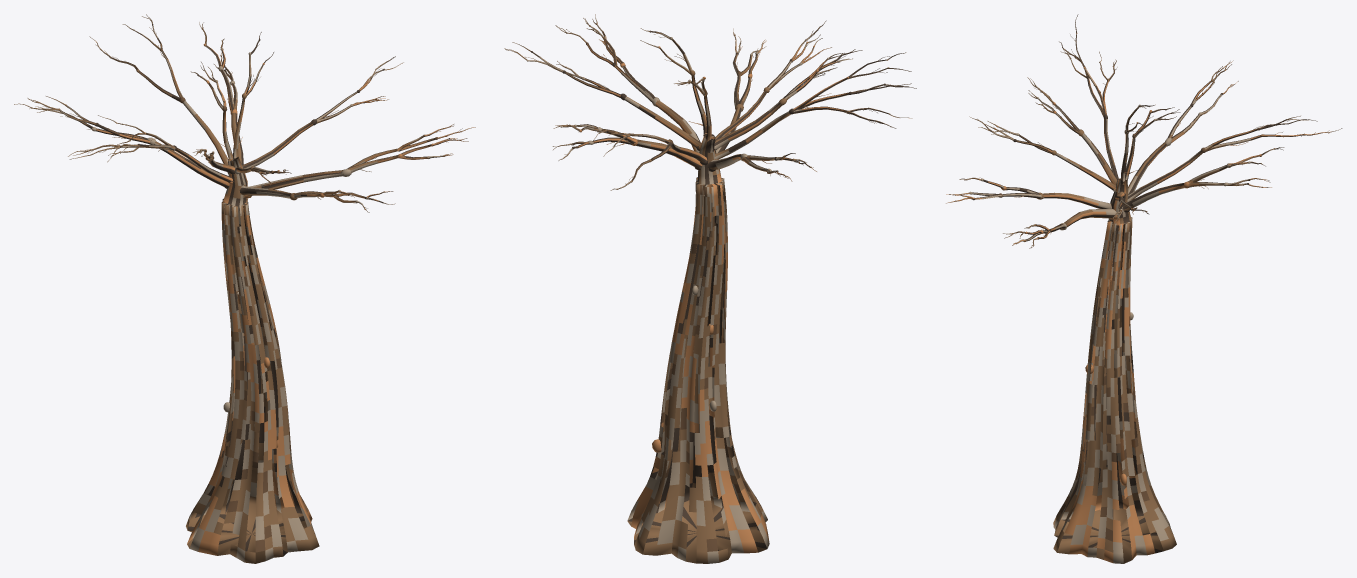
3 renders of one model, left to right at view 1: azimuth 30°, elevation 25°; view 2: azimuth 150°, elevation 25°; view 3: azimuth 270°, elevation 25°, orthographic. The views are drawn at different scales.
Parts seen in each view (by area): view 1: main_trunk, branch_and_twig_network; view 2: main_trunk, branch_and_twig_network; view 3: main_trunk, branch_and_twig_network.
Part boxes in pixels (bbox=[...]): main_trunk: bbox=[186, 198, 319, 563]; branch_and_twig_network: bbox=[14, 14, 475, 212]; main_trunk: bbox=[627, 177, 769, 563]; branch_and_twig_network: bbox=[504, 14, 916, 190]; main_trunk: bbox=[1053, 217, 1176, 563]; branch_and_twig_network: bbox=[946, 14, 1342, 248].
Bounding box in the file's own units: 6.22 × 7.7 × 6.21.
